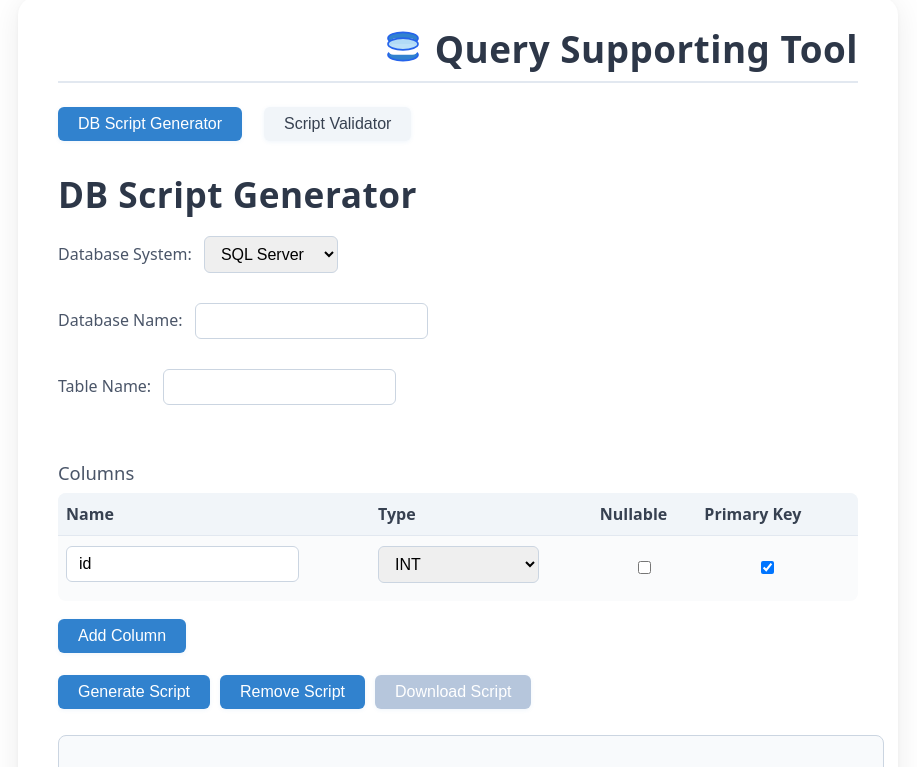
App UI › tab switching works
The image size is (917, 767).
Expected: the heading "DB Script Generator" is shown, [58, 170, 417, 218]
# Switch to Script Validator
Click the button with test id "tab-validator" at (338, 124), box [264, 107, 411, 141]
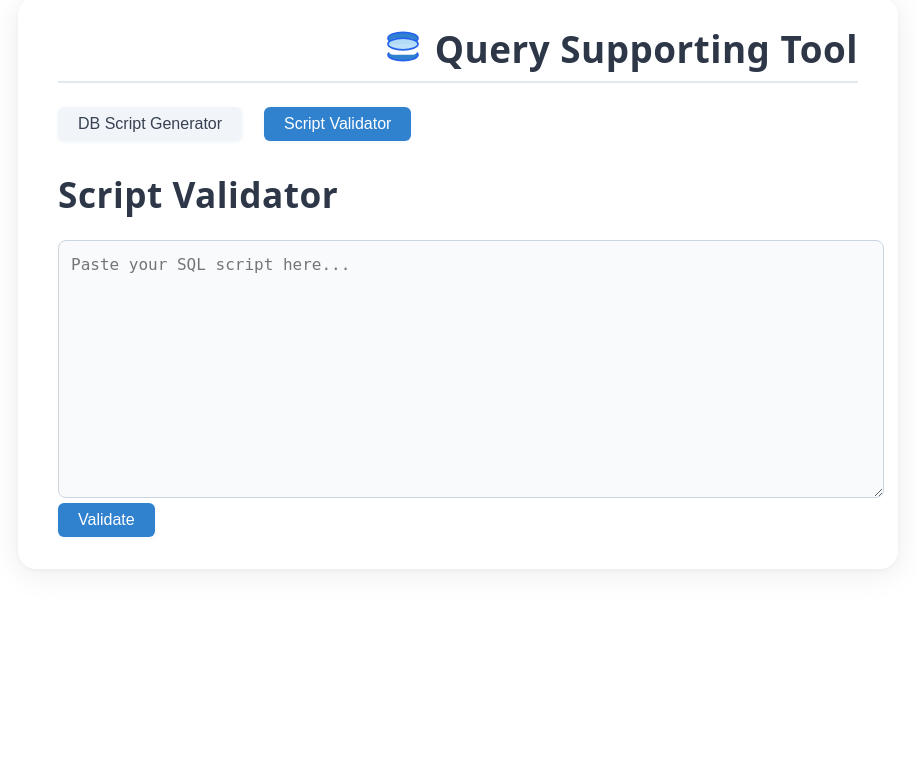
Expected: the heading "Script Validator" is shown, [58, 170, 338, 218]
